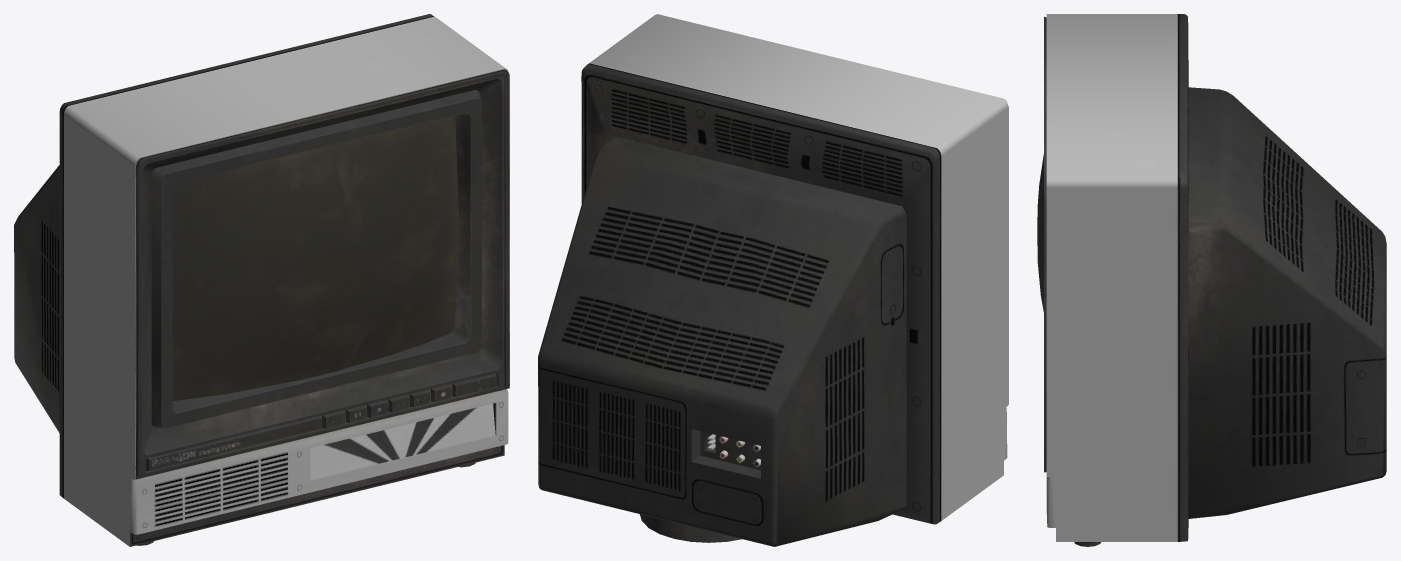
The model's file is television_02.glb.
3 views of the same model, side by side, from view 1: azimuth 30°, elevation 25°; view 2: azimuth 150°, elevation 25°; view 3: azimuth 270°, elevation 25° (orthographic). The views are drawn at different scales.
Visible parts, largest first — view 1: television_02; view 2: television_02; view 3: television_02.
Part boxes in pixels (x1,y1,x2,y2): television_02: (14, 14, 509, 546); television_02: (538, 14, 1008, 546); television_02: (1037, 14, 1386, 546).
Bounding box in the file's own units: 0.3997 × 0.4108 × 0.3495.
Materials: 1 (1 with a texture image).
